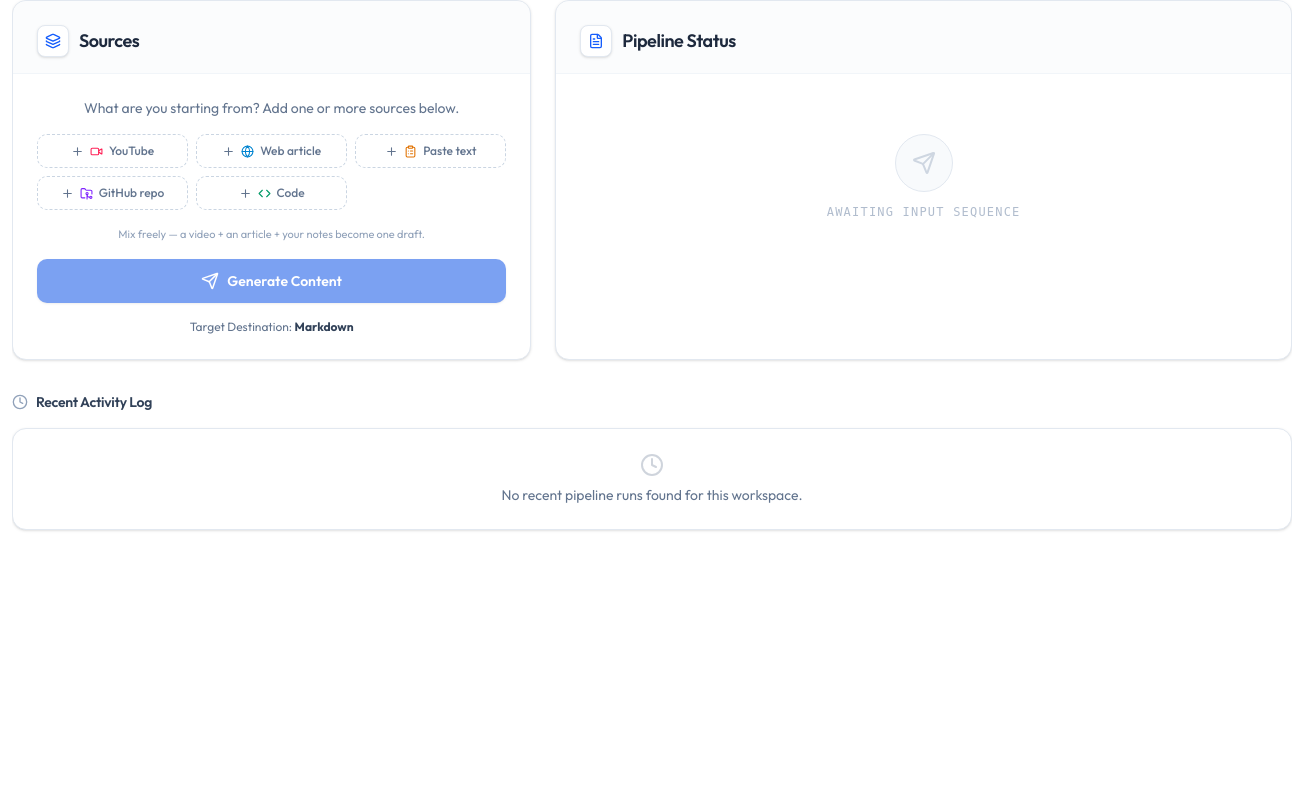
Test: PipelineTrigger (Source Composer) › the GitHub card offers a repo picker that fills the URL
This screenshot has width=1292, height=800.
Click the button "GitHub repo" at coordinates (113, 193), box [37,176,188,210]
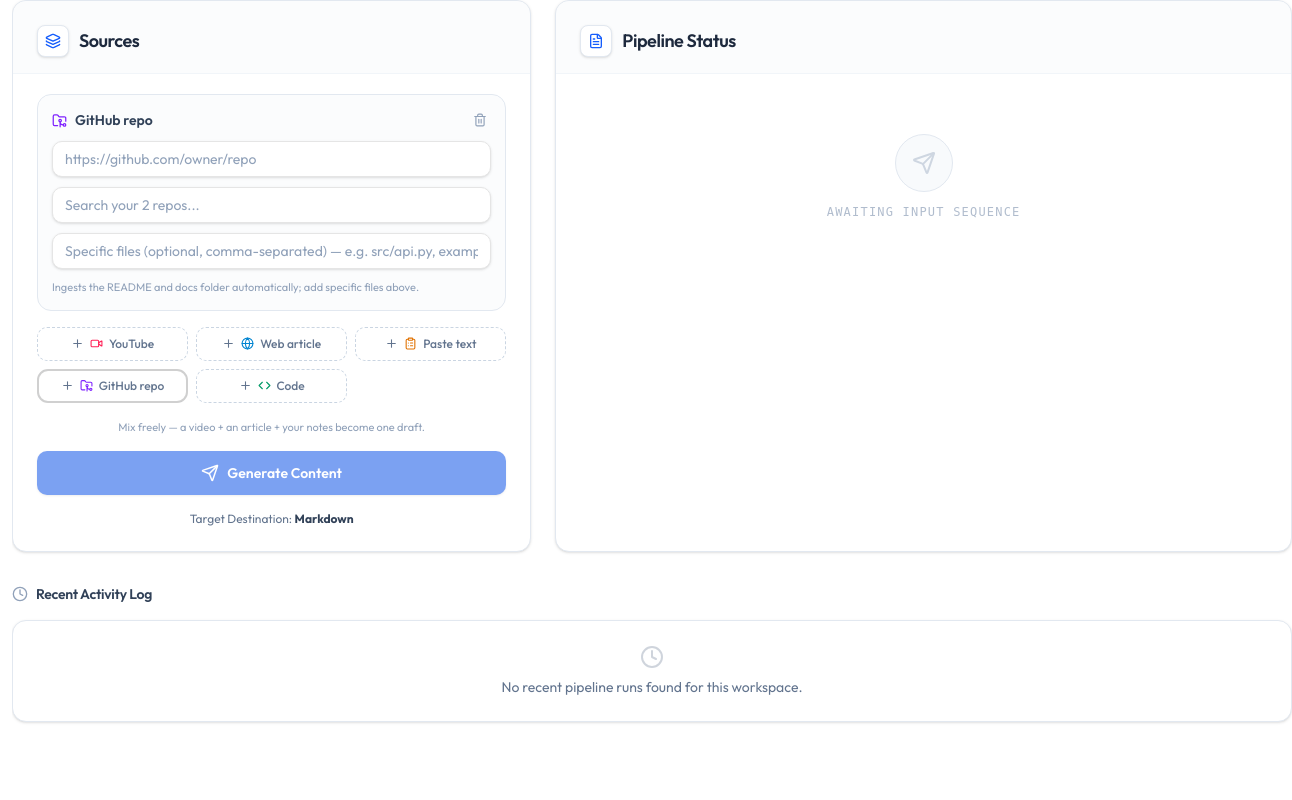
Type "widget" into the field with placeholder "Search your 2 repos..." at coordinates (272, 205), box [52,187,491,223]
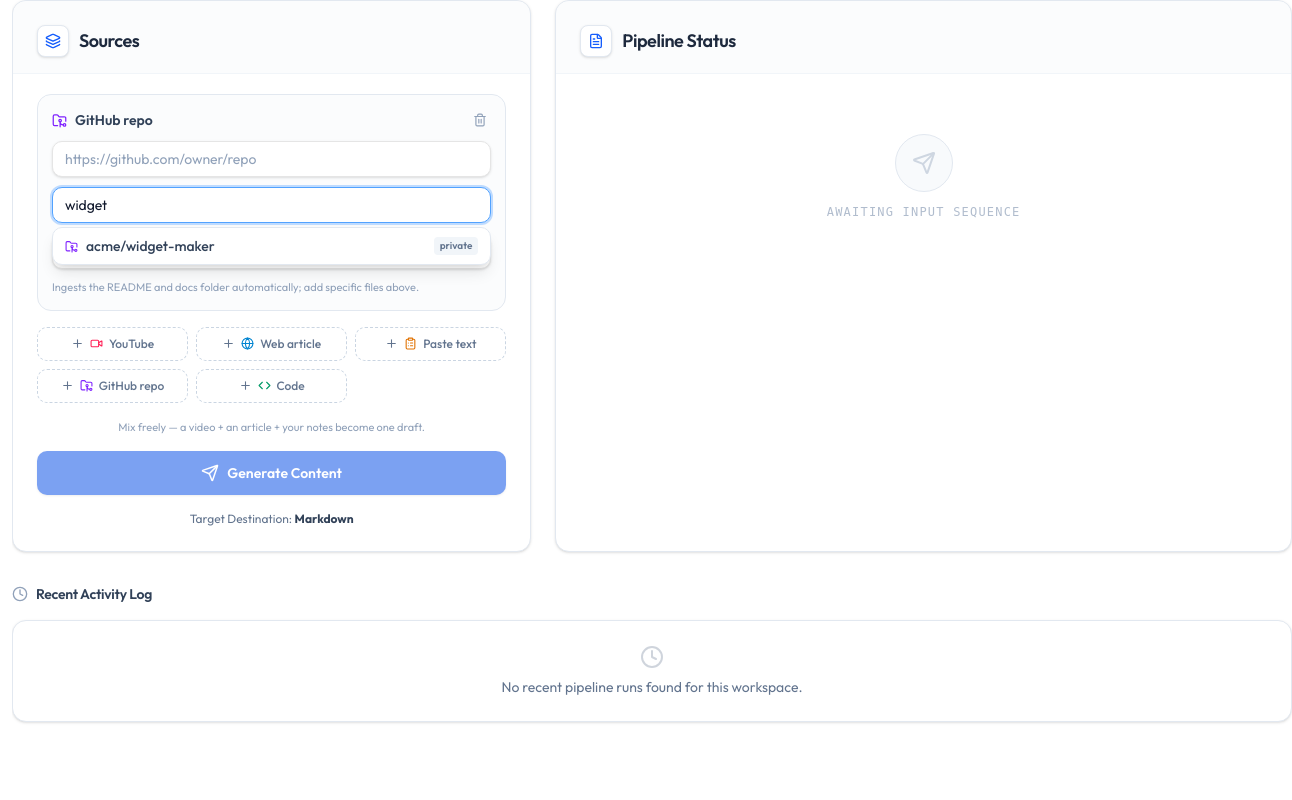
Check: the button "acme/widget-maker private" is shown
Click the button "acme/widget-maker private" at coordinates (150, 246), box [53,228,490,264]
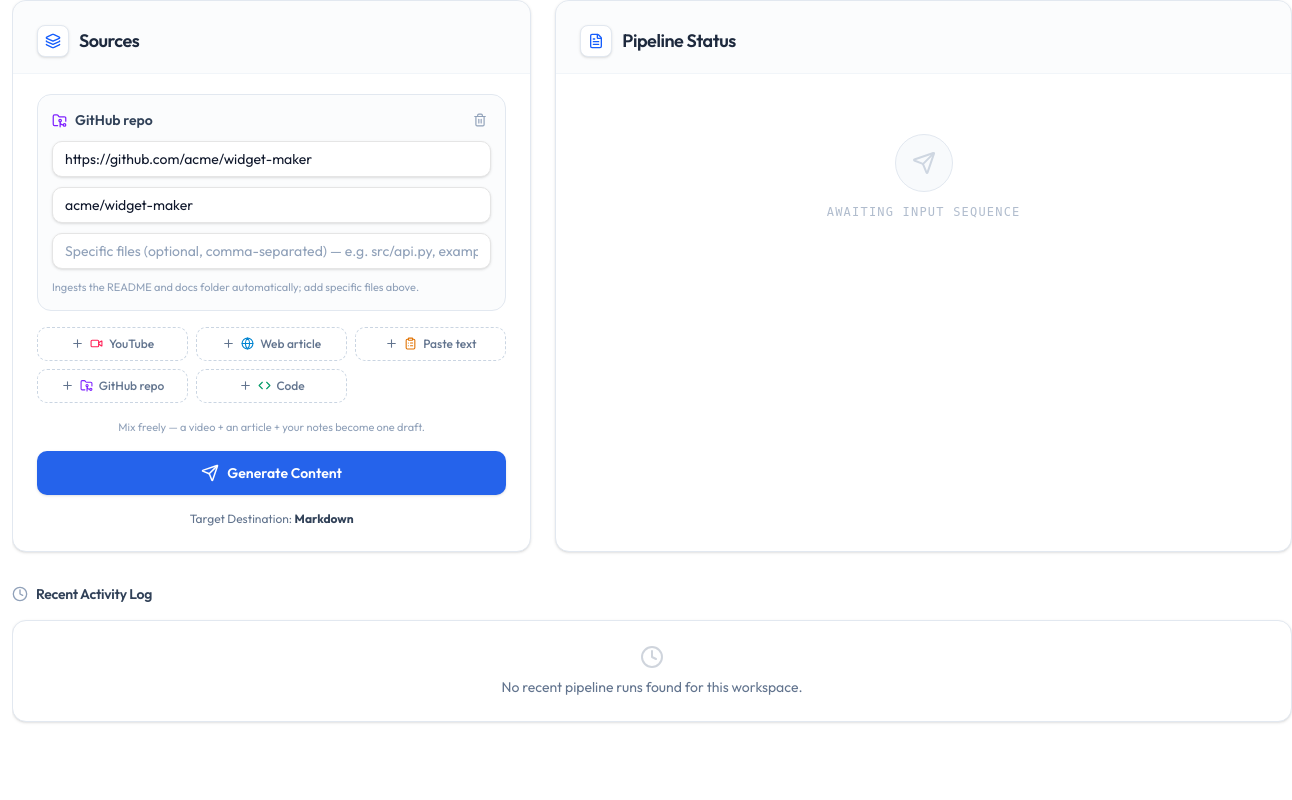
Check: the 1st field with placeholder "https://github.com/owner/repo" holds "https://github.com/acme/widget-maker", box [52,141,491,177]
